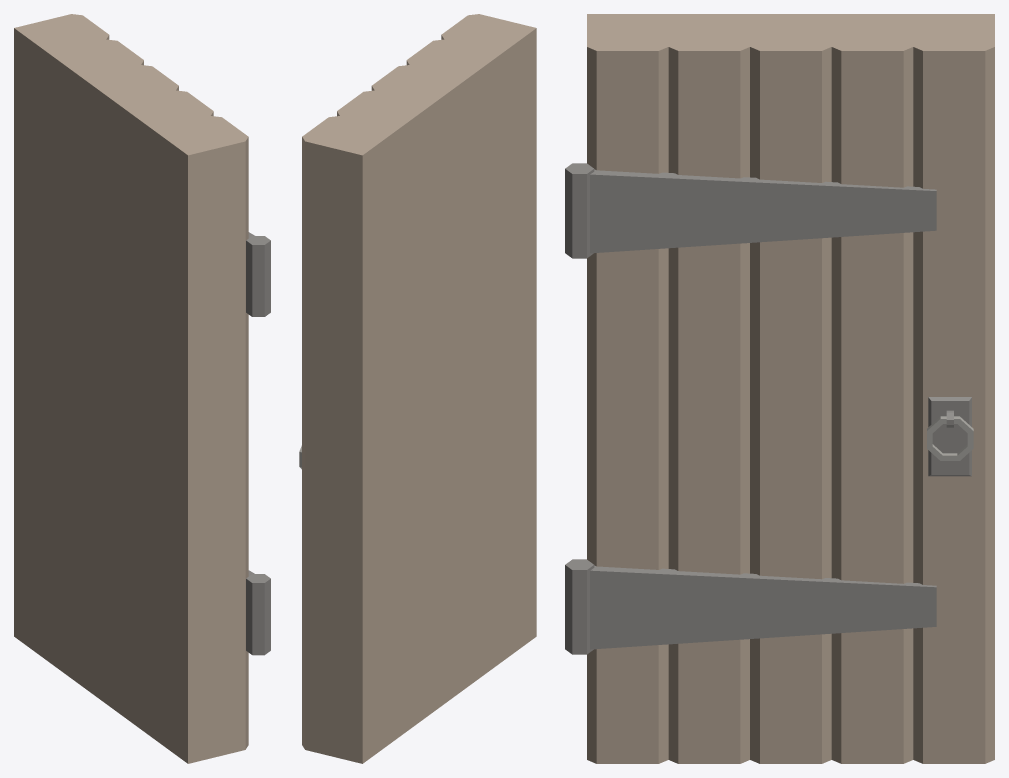
File: Wall_Prop_Door_Simple.glb
3 views of the same model, side by side, from view 1: azimuth 30°, elevation 25°; view 2: azimuth 150°, elevation 25°; view 3: azimuth 270°, elevation 25° (orthographic). The views are drawn at different scales.
Parts seen in each view (by area): view 1: Wall_Prop_Door_Simple; view 2: Wall_Prop_Door_Simple; view 3: Wall_Prop_Door_Simple.
Boxes of the visible parts, left/top/right/bottom form: Wall_Prop_Door_Simple: left=14, top=14, right=270, bottom=763; Wall_Prop_Door_Simple: left=299, top=14, right=536, bottom=763; Wall_Prop_Door_Simple: left=565, top=14, right=994, bottom=763.
Bounding box in the file's own units: 0.0889 × 0.6747 × 0.3686.
